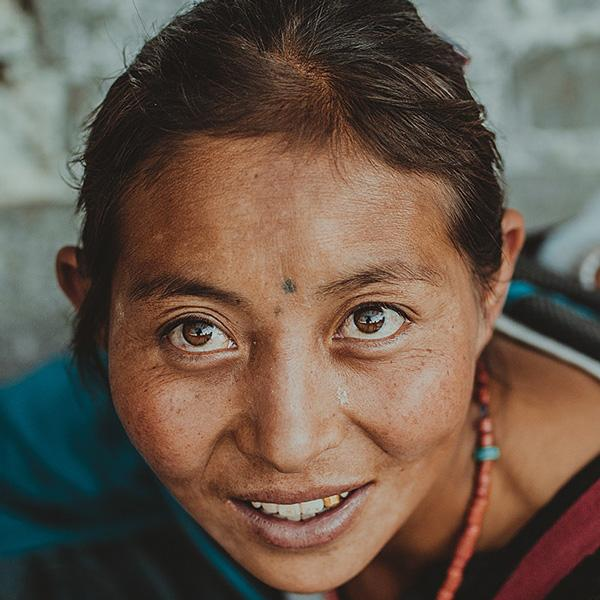Eyes: (325, 294, 423, 362), (149, 304, 245, 369)
